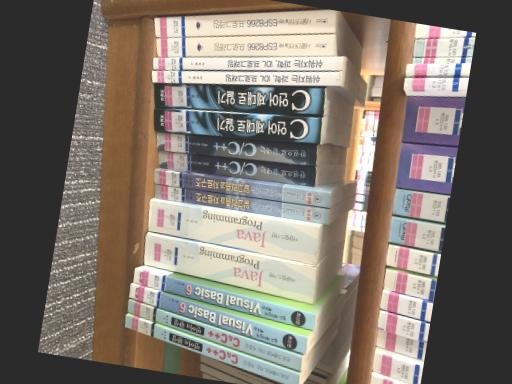book-spine: (127, 283, 306, 355), (126, 299, 300, 371), (143, 232, 314, 305), (124, 315, 298, 384), (131, 269, 314, 331), (147, 199, 318, 265), (154, 184, 327, 224), (153, 169, 329, 208), (152, 108, 321, 143), (153, 83, 323, 116), (158, 151, 315, 186), (156, 133, 315, 167), (153, 10, 335, 37), (155, 33, 333, 57), (151, 70, 339, 85), (152, 57, 342, 70)
